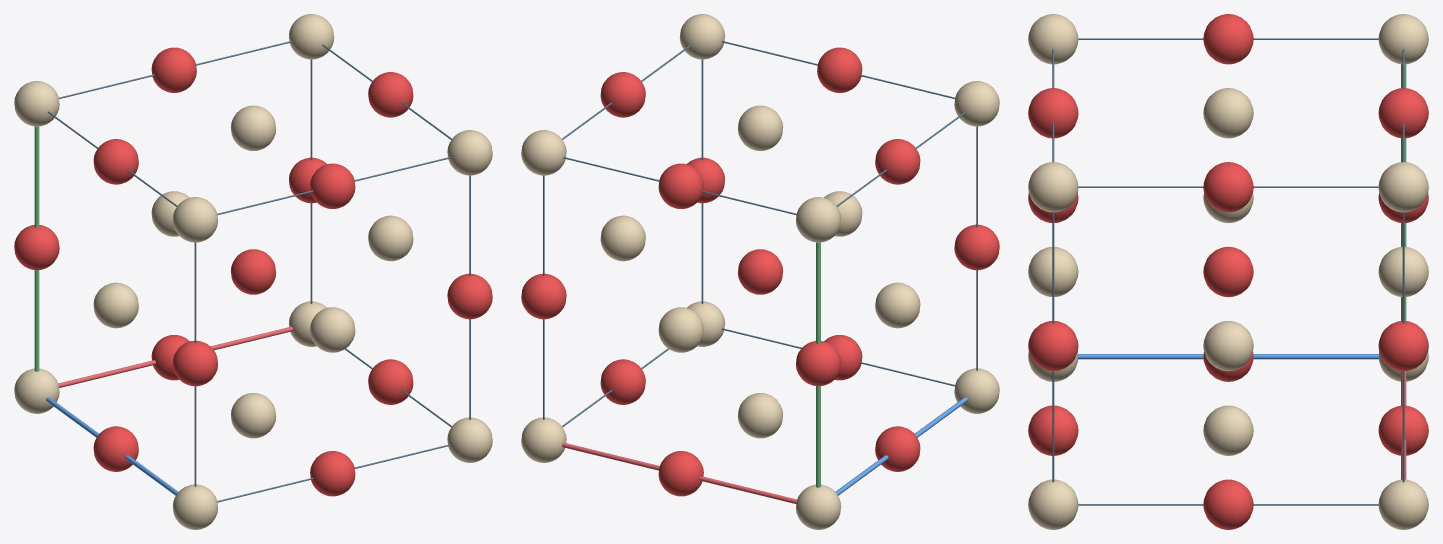
File: chat-manganosite.glb
3 renders of one model, left to right at view 1: azimuth 30°, elevation 25°; view 2: azimuth 150°, elevation 25°; view 3: azimuth 270°, elevation 25°, orthographic. The views are drawn at different scales.
Parts seen in each view (by area): view 1: Mn · Mn · 1 (×14), O · O · 1 (×13), Ô mạng và các trục a, b, c; view 2: Mn · Mn · 1 (×14), O · O · 1 (×13), Ô mạng và các trục a, b, c; view 3: Mn · Mn · 1 (×14), O · O · 1 (×13), Ô mạng và các trục a, b, c.
Part boxes in pixels (<box>): Mn · Mn · 1 (×14): <box>14,14,492,529</box>; O · O · 1 (×13): <box>14,47,492,496</box>; Ô mạng và các trục a, b, c: <box>34,41,470,502</box>; Mn · Mn · 1 (×14): <box>521,14,999,529</box>; O · O · 1 (×13): <box>521,47,999,496</box>; Ô mạng và các trục a, b, c: <box>543,41,977,503</box>; Mn · Mn · 1 (×14): <box>1028,14,1428,529</box>; O · O · 1 (×13): <box>1028,14,1428,529</box>; Ô mạng và các trục a, b, c: <box>1052,38,1406,505</box>.
Size of the model in its own units: 5.09 by 5.09 by 5.09.
